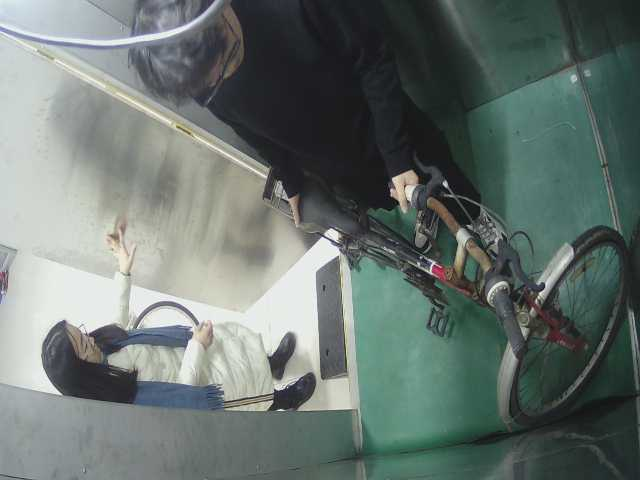bicycle: (256, 160, 625, 426)
person: (117, 1, 521, 263), (41, 245, 329, 423)
